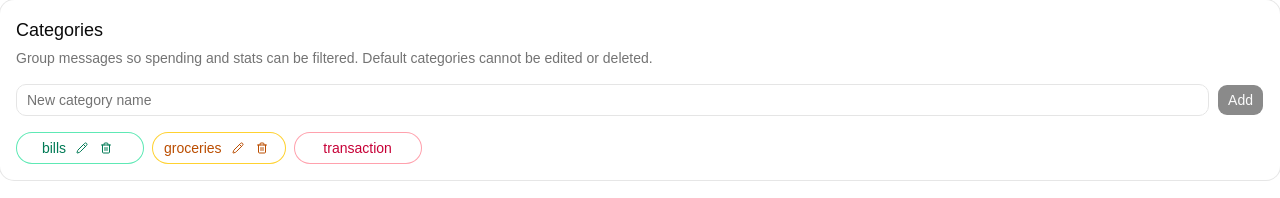
CategoriesSection › cancels editing
Expected: the text "bills" is shown, [16, 132, 144, 164]
Click the button named "edit" next to "bills".
click(82, 148)  # box [70, 136, 94, 160]
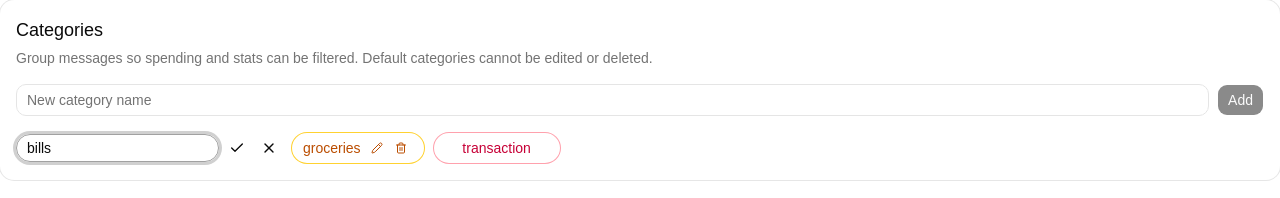
Expected: the field showing "bills" is shown, [16, 134, 219, 162]
Click the button named "cancel".
click(269, 148)  # box [255, 134, 283, 162]
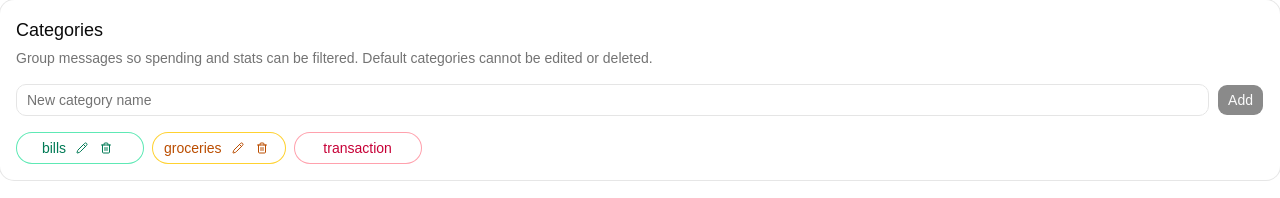
Expected: the text "bills" is shown, [16, 132, 144, 164]
